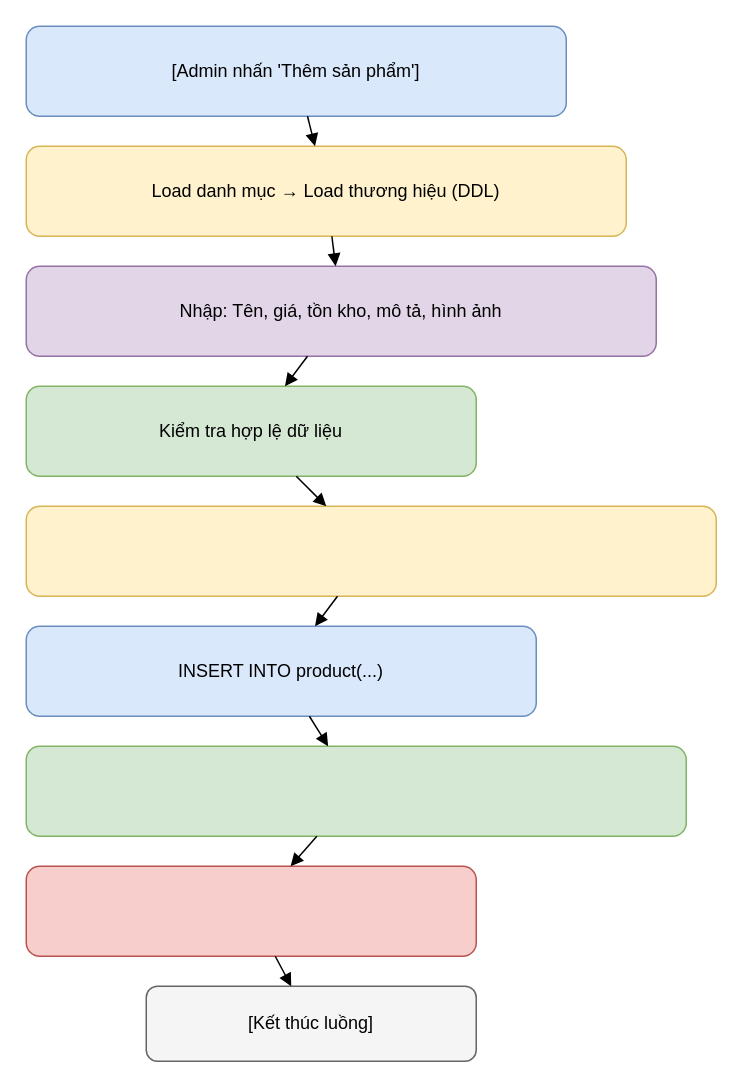
This 743x1088 diagram has some shape labels left out. Each missing label, with the box of its shape:
Nếu upload hình → Lưu file vào /images/products/: (25, 505, 716, 596)
Redirect về Product.aspx: (25, 865, 476, 956)
Session['ToastMessage'] = 'Thêm sản phẩm thành công': (25, 745, 686, 836)
